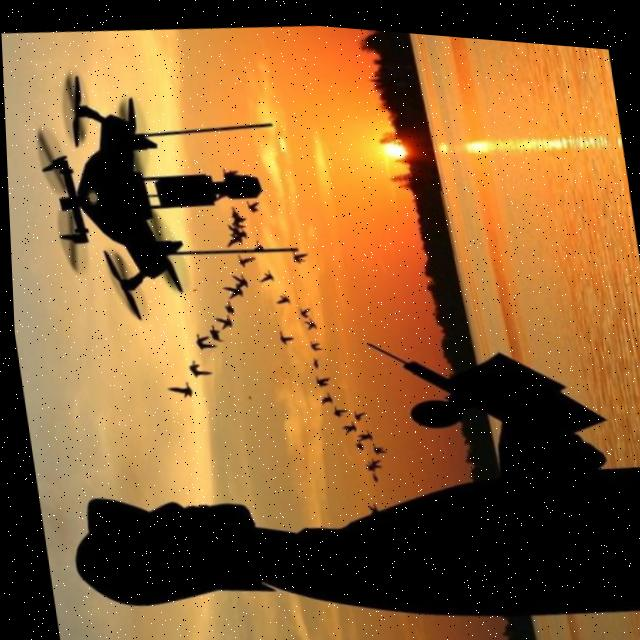drones: (3, 25, 338, 362)
